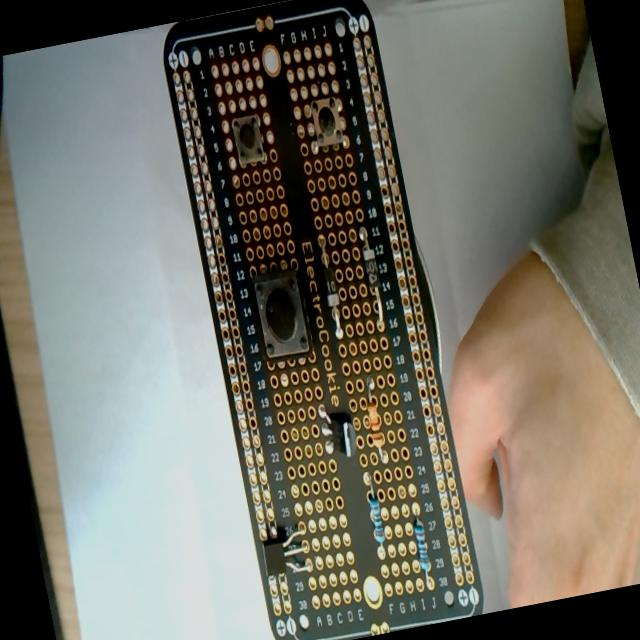diode: (357, 230, 389, 332), (316, 236, 346, 342)
resistor: (358, 376, 392, 461), (362, 472, 388, 546), (412, 518, 436, 587)
switch: (252, 265, 318, 366), (309, 96, 347, 152), (231, 111, 268, 168)
transistor: (254, 520, 312, 585), (315, 398, 361, 464)
